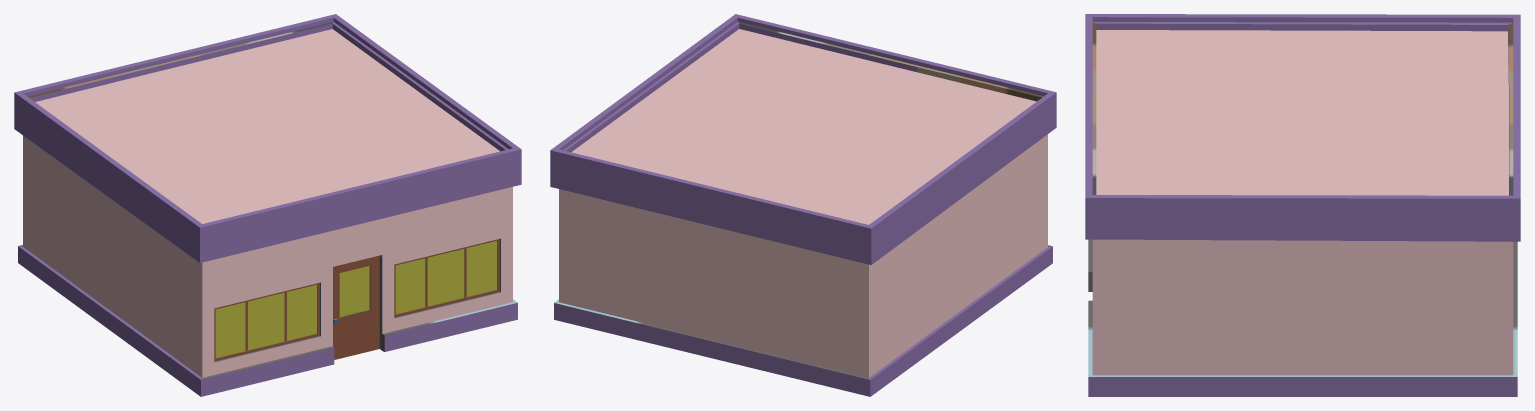
The model's file is Target_House_16.fbx.
3 views of the same model, side by side, from view 1: azimuth 30°, elevation 25°; view 2: azimuth 150°, elevation 25°; view 3: azimuth 270°, elevation 25° (orthographic). The views are drawn at different scales.
Visible parts, largest first — view 1: House_16; view 2: House_16; view 3: House_16.
Boxes of the visible parts, bbox=[...] form: House_16: bbox=[14, 14, 521, 396]; House_16: bbox=[550, 14, 1056, 396]; House_16: bbox=[1085, 14, 1520, 396].
Size of the model in its own units: 1411 by 716 by 1411.
